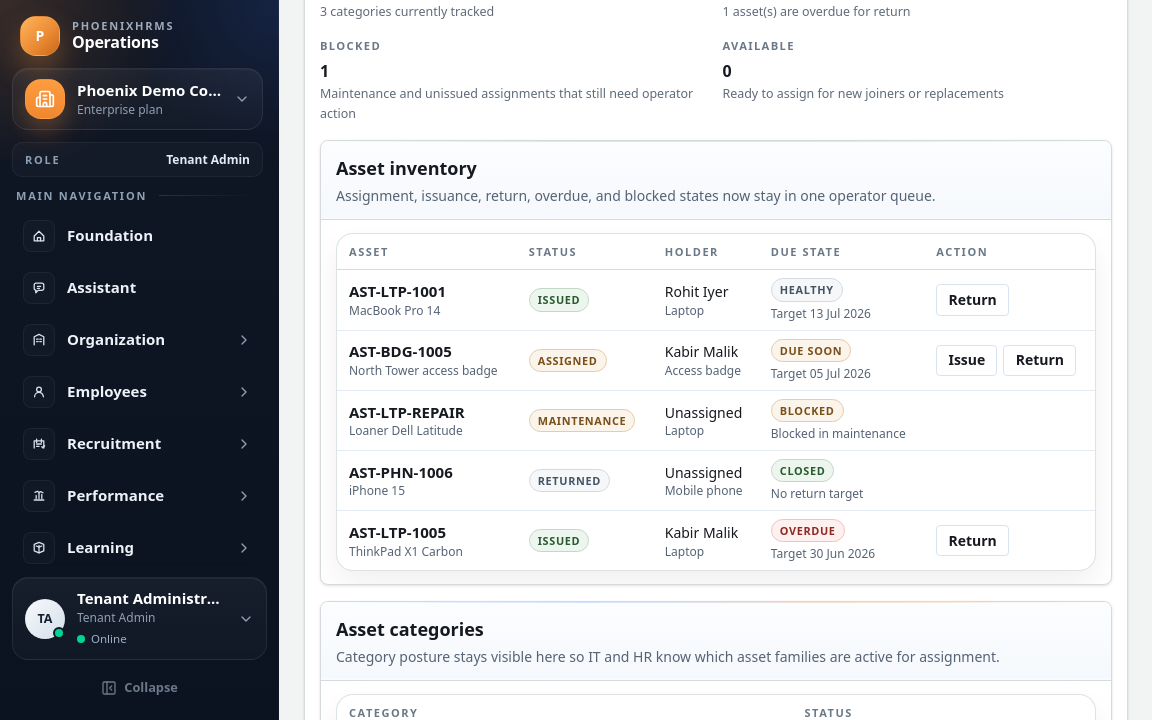
Test case: OperationsAssetsPage › lets a tenant admin issue an assigned asset in demo mode
This screenshot has width=1152, height=720.
(page scrolled)
Click the button "Issue": click(967, 360) [936,345,998,376]
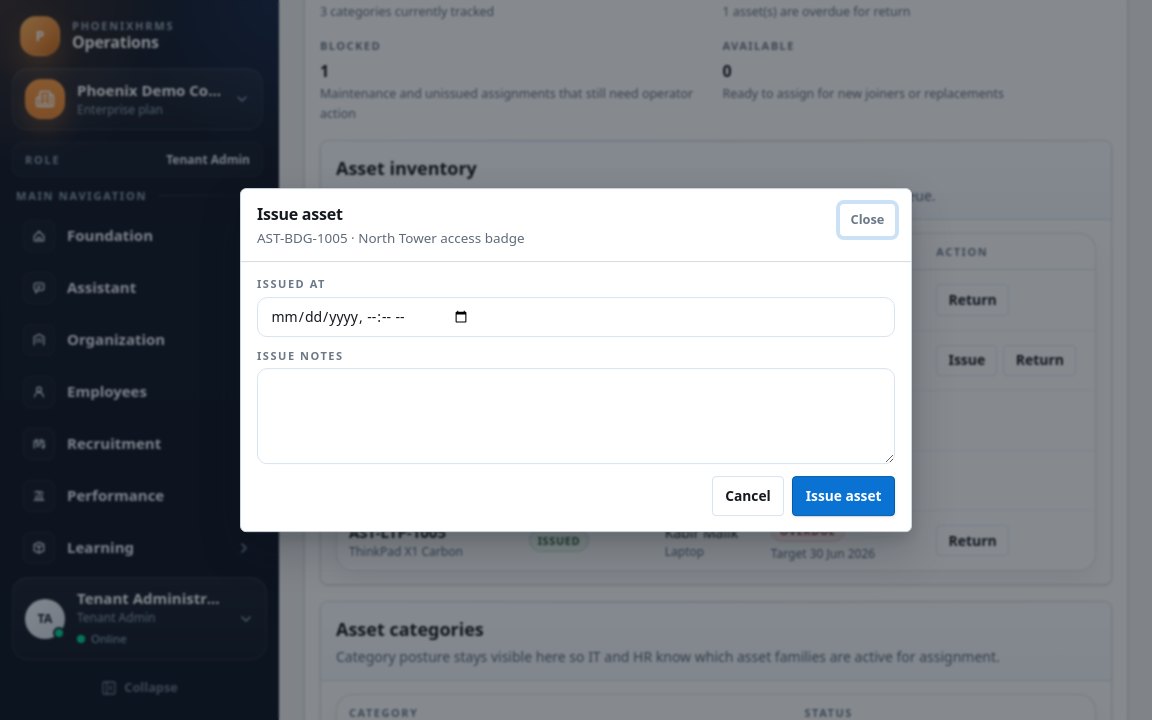
expect the dialog "Issue asset" is shown: met, box [240,188,912,532]
Click the button "Issue asset": click(844, 496) [792,476,895,516]
(page scrolled)
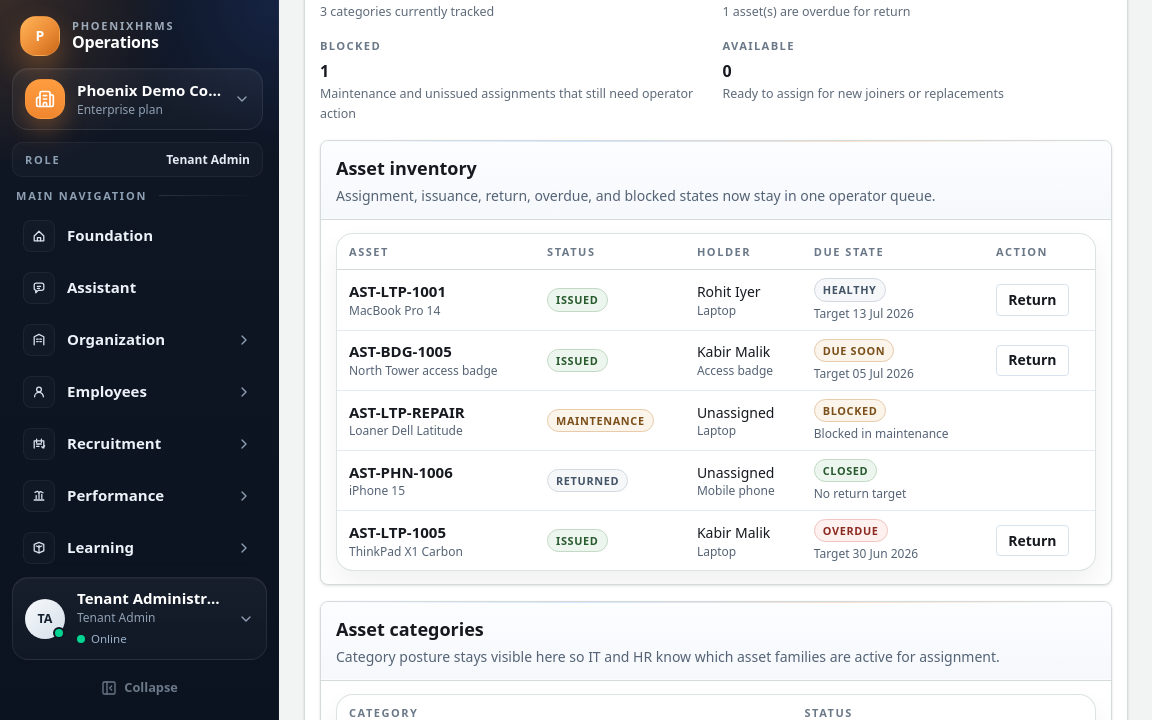
expect the text "AST-BDG-1005" is shown: met, box [349,341,452,361]
expect the text "issued" next to "North Tower access badge" is shown: met, box [556,353,598,368]
